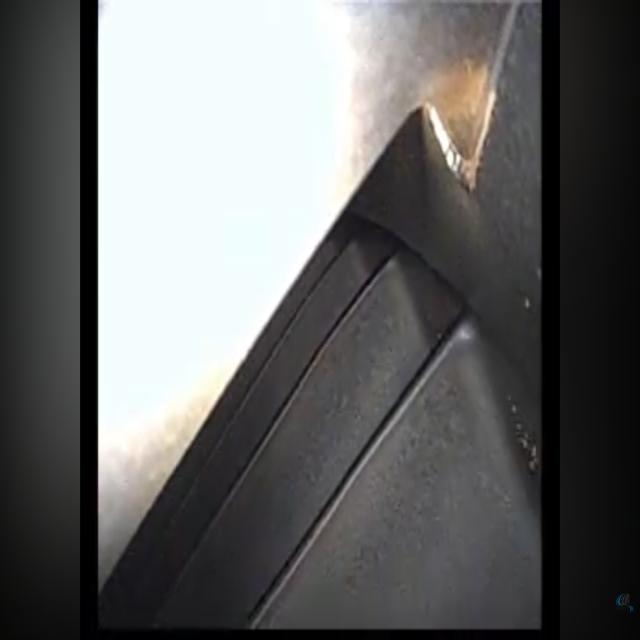turbine_blade: (166, 256, 436, 624), (252, 319, 539, 632)
